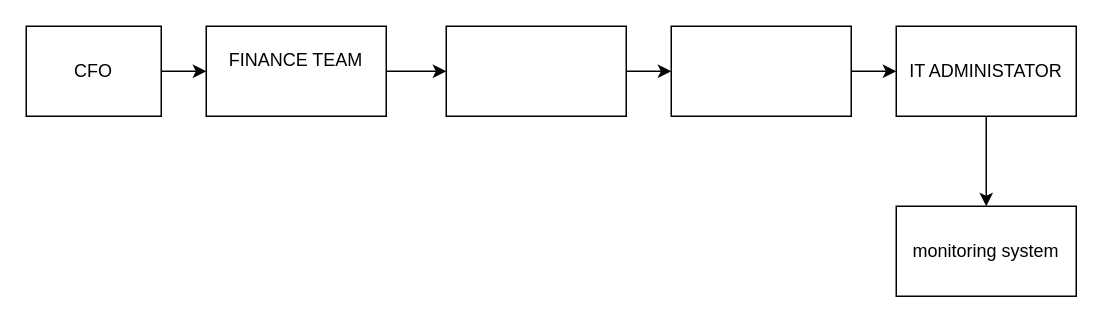
Image size: 1103x323. Some labels were removed from this diagram. The centre of each missing label's shape, as x and y in pixels:
"FinSight" goes at point 760,70.
"SAP ERP" goes at point 535,70.
